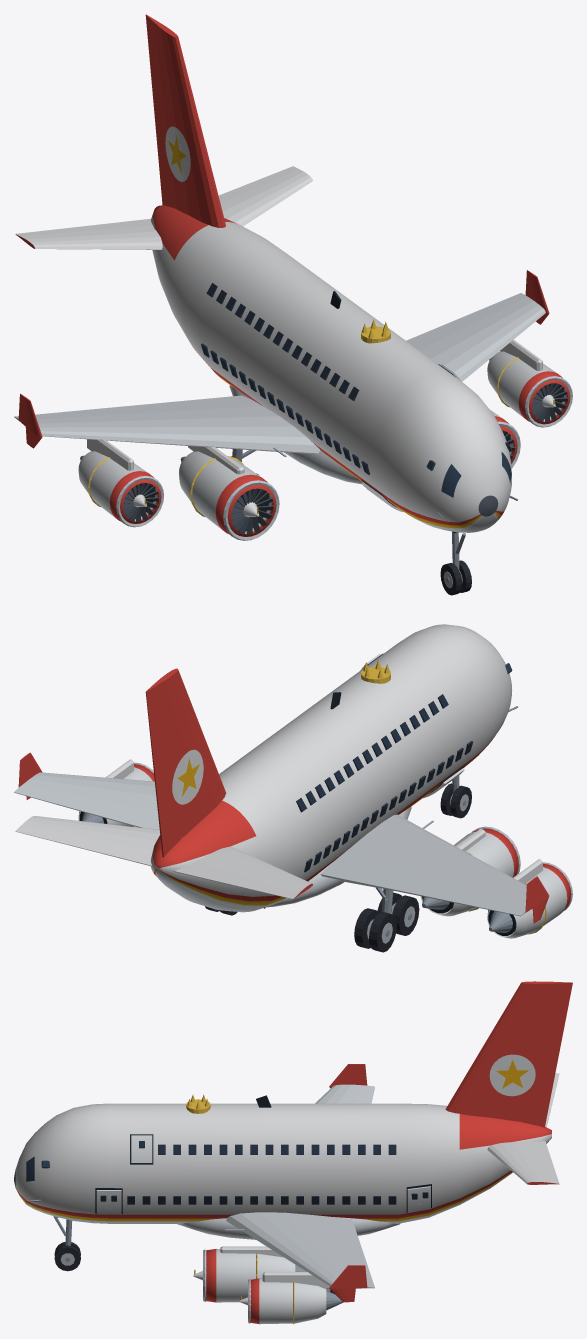
File: skyport-queen.glb
The picture shows the model from 3 angles, top to bottom: view 1: azimuth 30°, elevation 25°; view 2: azimuth 150°, elevation 25°; view 3: azimuth 270°, elevation 25°; orthographic projection. The views are drawn at different scales.
Visible parts, largest first — view 1: sp_queen_mesh, sp_queen_fanr_mesh, sp_queen_fanl2_mesh, sp_queen_fanr2_mesh, sp_queen_wheel_n_mesh; view 2: sp_queen_mesh, sp_queen_wheel_r_mesh, sp_queen_wheel_n_mesh; view 3: sp_queen_mesh, sp_queen_door_mesh, sp_queen_wheel_n_mesh, sp_queen_galley_mesh.
Part boxes in pixels (x1,y1,x2,y2): sp_queen_mesh: (14, 14, 572, 540); sp_queen_fanr_mesh: (231, 488, 273, 534); sp_queen_fanl2_mesh: (532, 383, 567, 421); sp_queen_fanr2_mesh: (123, 483, 159, 521); sp_queen_wheel_n_mesh: (440, 560, 471, 595); sp_queen_mesh: (14, 624, 572, 938); sp_queen_wheel_r_mesh: (354, 892, 419, 952); sp_queen_wheel_n_mesh: (440, 783, 471, 818); sp_queen_mesh: (14, 981, 572, 1324); sp_queen_door_mesh: (96, 1190, 121, 1214); sp_queen_wheel_n_mesh: (54, 1242, 80, 1271); sp_queen_galley_mesh: (407, 1186, 430, 1212).
Size of the model in its own units: 21.4 by 14.06 by 24.94.
